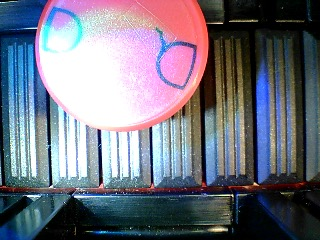CRACK: (34, 1, 209, 132)
